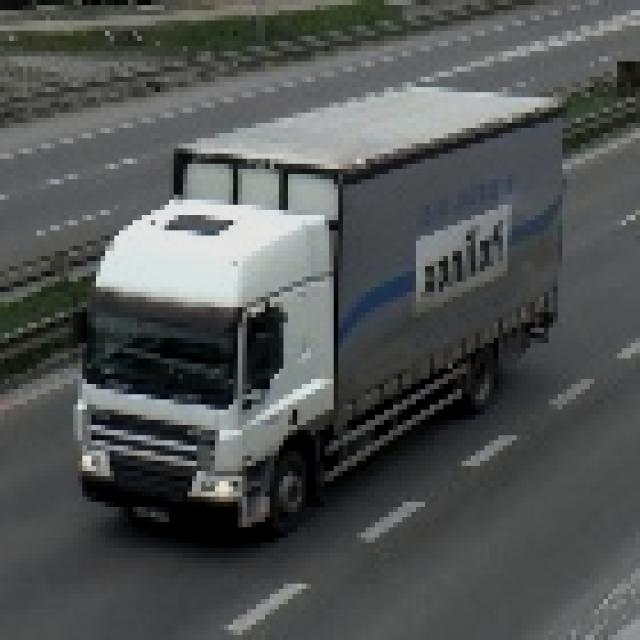truck: (70, 73, 563, 534)
